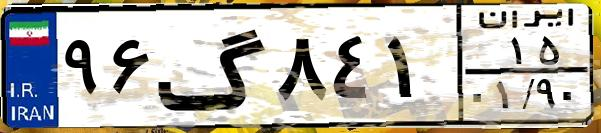0: (560, 70, 590, 125), (470, 70, 495, 125)
1: (385, 28, 445, 110), (508, 27, 537, 80), (495, 70, 520, 125)
4: (330, 28, 385, 110)
5: (537, 27, 568, 80)
6: (110, 28, 156, 98)
8: (270, 28, 330, 110)
9: (57, 26, 110, 100), (535, 70, 560, 125)
گ: (156, 12, 270, 120)
